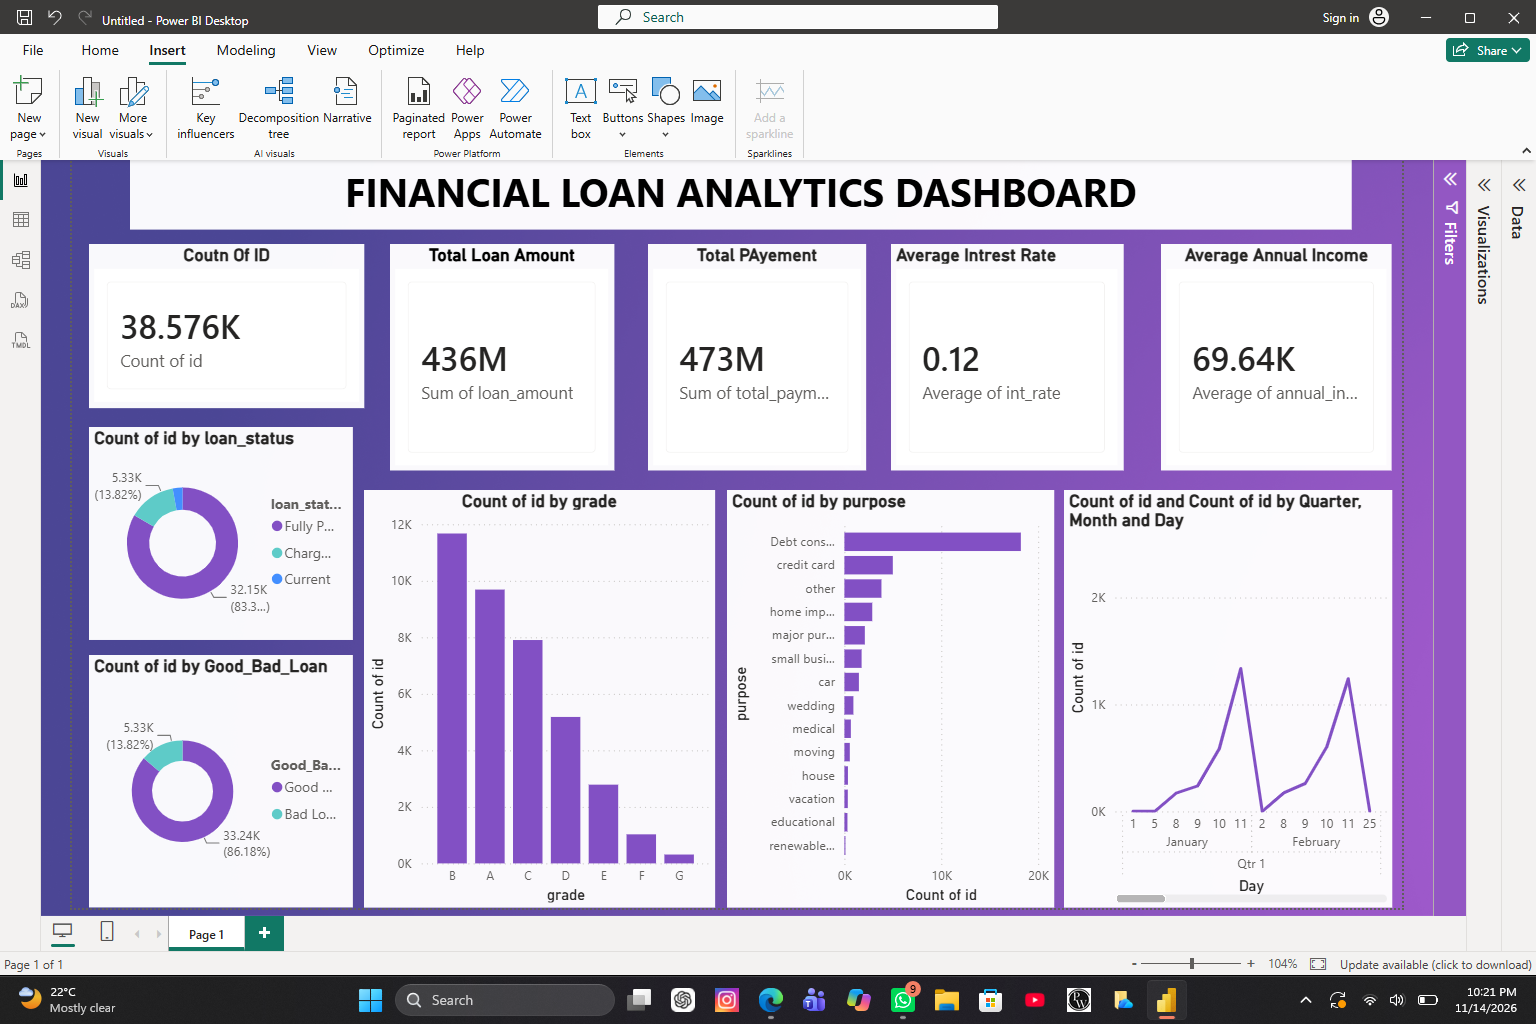

This screenshot's page, from the dashboard's own definition file:
{"tool":"powerbi","page":{"name":"Page 1","canvas":[1280,720],"ordinal":0},"visuals":[{"type":"cardVisual","title":"Total Loan Amount","fields":{"Data":["Sum(financial_loan.loan_amount)"]},"box":[306.3,81,215.6,218.4],"z":1000},{"type":"cardVisual","title":"Total PAyement","fields":{"Data":["Sum(financial_loan.total_payment)"]},"box":[554.8,81,210.1,218.4],"z":2000},{"type":"cardVisual","title":"Average Intrest Rate","fields":{"Data":["Avg(financial_loan.int_rate)"]},"box":[788.3,81,223.9,218.4],"z":3000},{"type":"cardVisual","title":"Average Annual Income","fields":{"Data":["Avg(financial_loan.annual_income)"]},"box":[1047.9,81,222.5,218.4],"z":4000},{"type":"donutChart","fields":{"Category":["financial_loan.loan_status"],"Y":["CountNonNull(financial_loan.id)"]},"box":[16.5,256.8,254.1,204.6],"z":5000},{"type":"donutChart","fields":{"Category":["financial_loan.Good_Bad_Loan"],"Y":["CountNonNull(financial_loan.id)"]},"box":[16.5,476.6,254.1,243.1],"z":6000},{"type":"clusteredColumnChart","fields":{"Category":["financial_loan.grade"],"Y":["CountNonNull(financial_loan.id)"]},"box":[281.5,317.3,337.9,402.4],"z":7000},{"type":"clusteredBarChart","fields":{"Category":["financial_loan.purpose"],"Y":["CountNonNull(financial_loan.id)"]},"box":[630.4,317.3,314.5,402.4],"z":8000},{"type":"lineChart","fields":{"Y":["CountNonNull(financial_loan.id)"],"Category":["financial_loan.issue_date.Variation.Date Hierarchy.Quarter","financial_loan.issue_date.Variation.Date Hierarchy.Month","financial_loan.issue_date.Variation.Date Hierarchy.Day"]},"box":[954.5,317.3,315.9,402.4],"z":10000},{"type":"cardVisual","title":"Coutn Of ID","fields":{"Data":["CountNonNull(financial_loan.id)"]},"box":[16.5,81,265.1,157.9],"z":10001},{"type":"textbox","box":[56.3,0,1175.6,67.3],"z":10002}]}

Visuals, with their boxes on the page's 1280x720 design canvas (x1, y1, x2, y2). These are canvas units, not pixel positions in the 1536x1024 screenshot, which may show the page scaled, cropped or inside an application window:
"Total Loan Amount" cardVisual: l=306, t=81, r=522, b=299
"Total PAyement" cardVisual: l=555, t=81, r=765, b=299
"Average Intrest Rate" cardVisual: l=788, t=81, r=1012, b=299
"Average Annual Income" cardVisual: l=1048, t=81, r=1270, b=299
donutChart - financial_loan.loan_status x CountNonNull(financial_loan.id): l=16, t=257, r=271, b=461
donutChart - financial_loan.Good_Bad_Loan x CountNonNull(financial_loan.id): l=16, t=477, r=271, b=720
clusteredColumnChart - financial_loan.grade x CountNonNull(financial_loan.id): l=282, t=317, r=619, b=720
clusteredBarChart - financial_loan.purpose x CountNonNull(financial_loan.id): l=630, t=317, r=945, b=720
lineChart - CountNonNull(financial_loan.id) x financial_loan.issue_date.Variation.Date Hierarchy.Quarter: l=954, t=317, r=1270, b=720
"Coutn Of ID" cardVisual: l=16, t=81, r=282, b=239
textbox: l=56, t=0, r=1232, b=67
